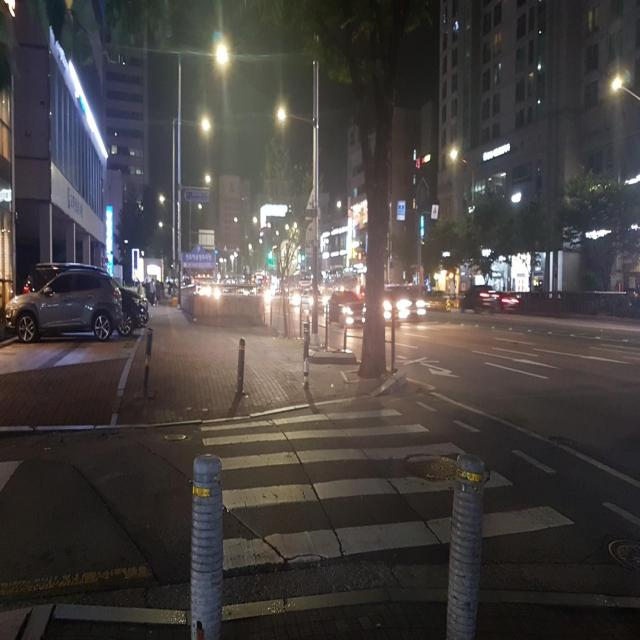횡단보도: (200, 403, 575, 572)
